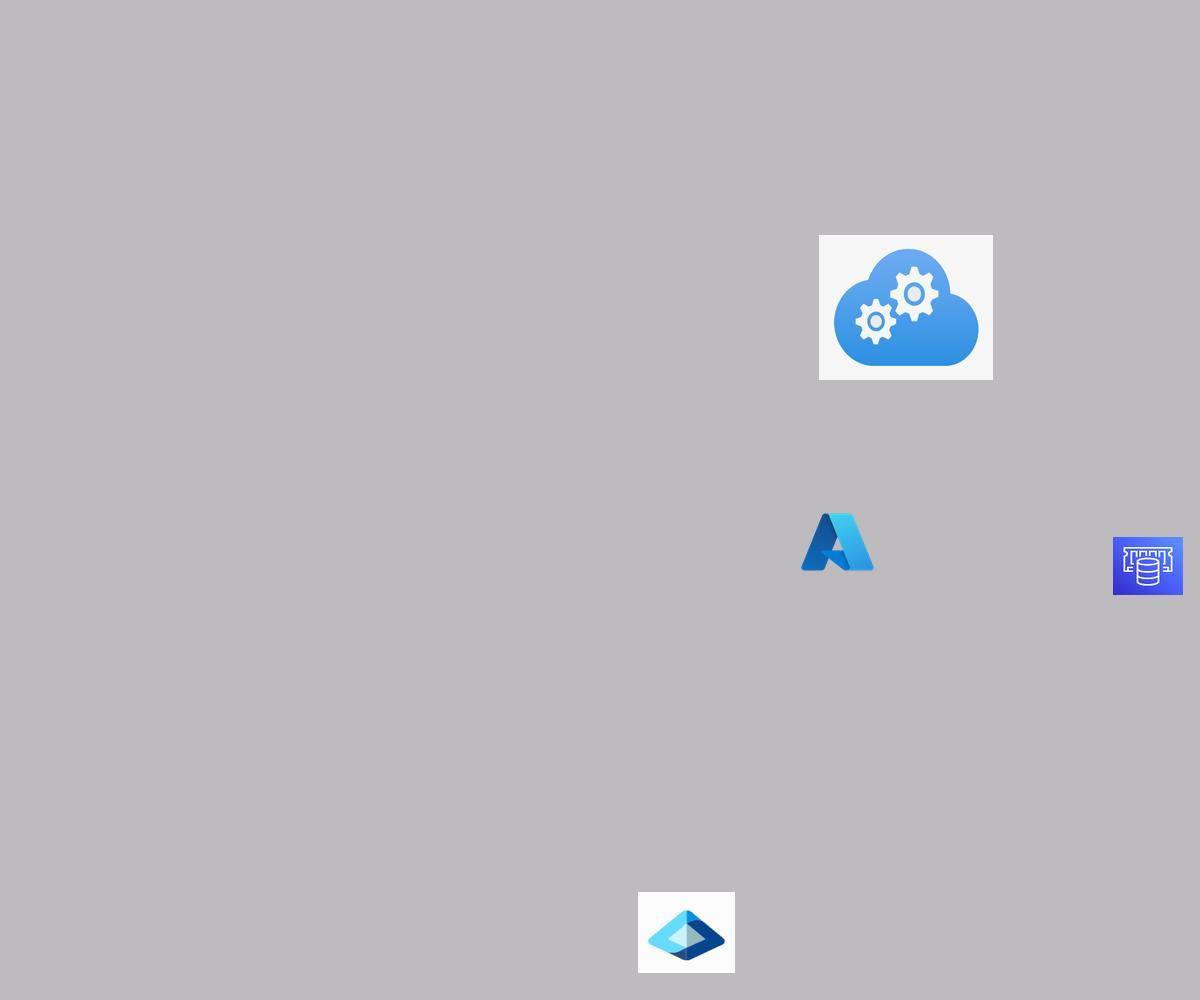AWS-ElastiCache: (1113, 537, 1183, 595)
Azure_cloud_services: (819, 235, 993, 380)
Azure_microsoft_entra: (638, 892, 735, 973)
Azure_services: (798, 509, 877, 575)
